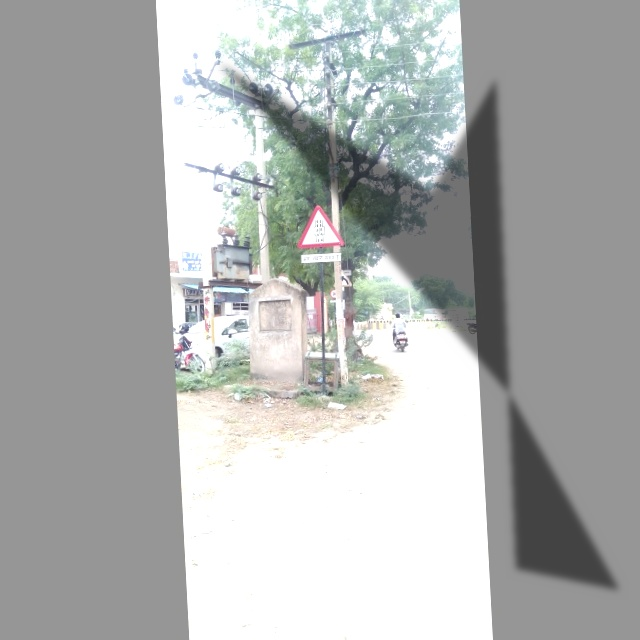Narrow_Road_Ahead: (295, 202, 343, 249)
